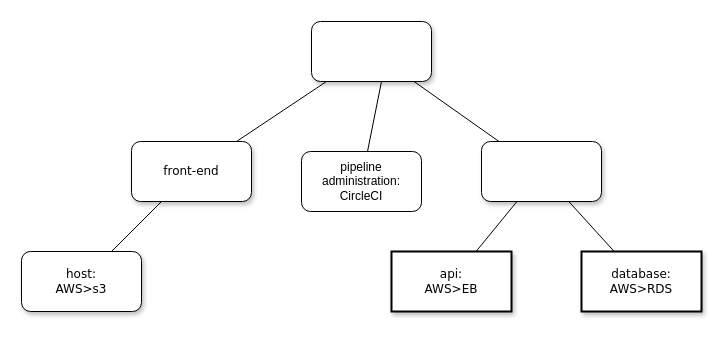
Some shapes in this 726 by 337 pixel diagram are drawn without their labels. The centre of each missing label's shape, as x and y in pixels:
"APP" belongs at (x=372, y=52).
"back-end" belongs at (x=542, y=172).
